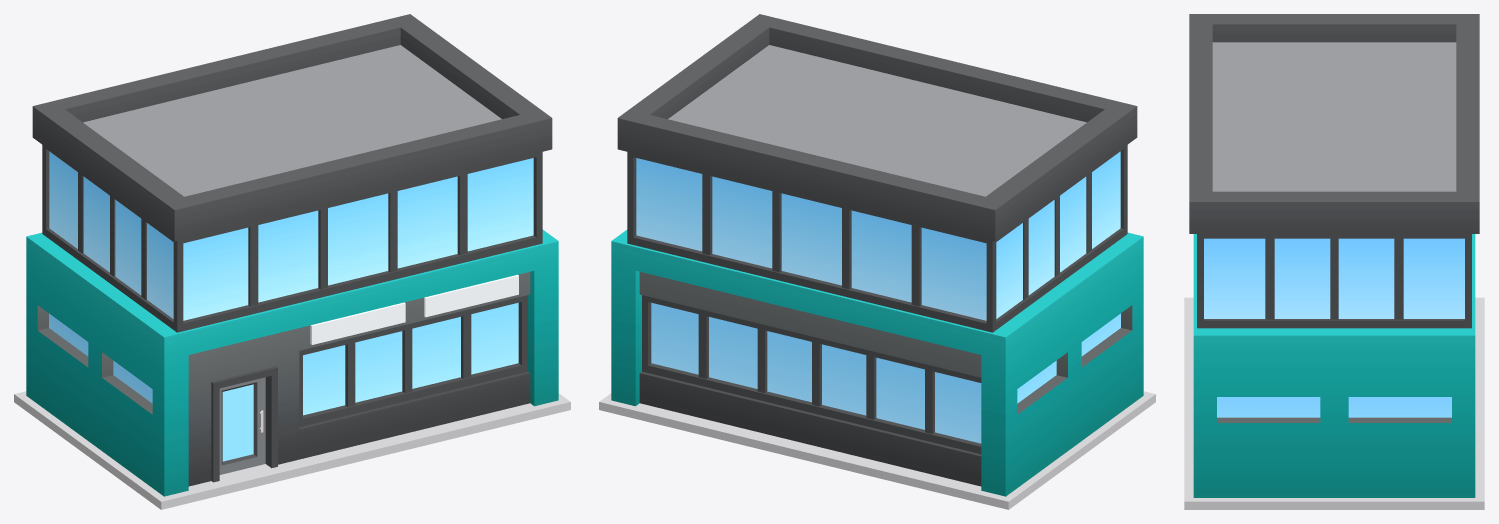
The model's file is city2-building-supermarket-04.glb.
3 renders of one model, left to right at view 1: azimuth 30°, elevation 25°; view 2: azimuth 150°, elevation 25°; view 3: azimuth 270°, elevation 25°, orthographic. The views are drawn at different scales.
Visible parts, largest first — view 1: Building_Supermarket_04; view 2: Building_Supermarket_04; view 3: Building_Supermarket_04.
Part boxes in pixels (x1,y1,x2,y2): Building_Supermarket_04: [14, 14, 570, 509]; Building_Supermarket_04: [599, 14, 1155, 509]; Building_Supermarket_04: [1184, 14, 1484, 509].
Bounding box in the file's own units: 10.53 × 7.22 × 6.55.
1 material, 1 textured.
